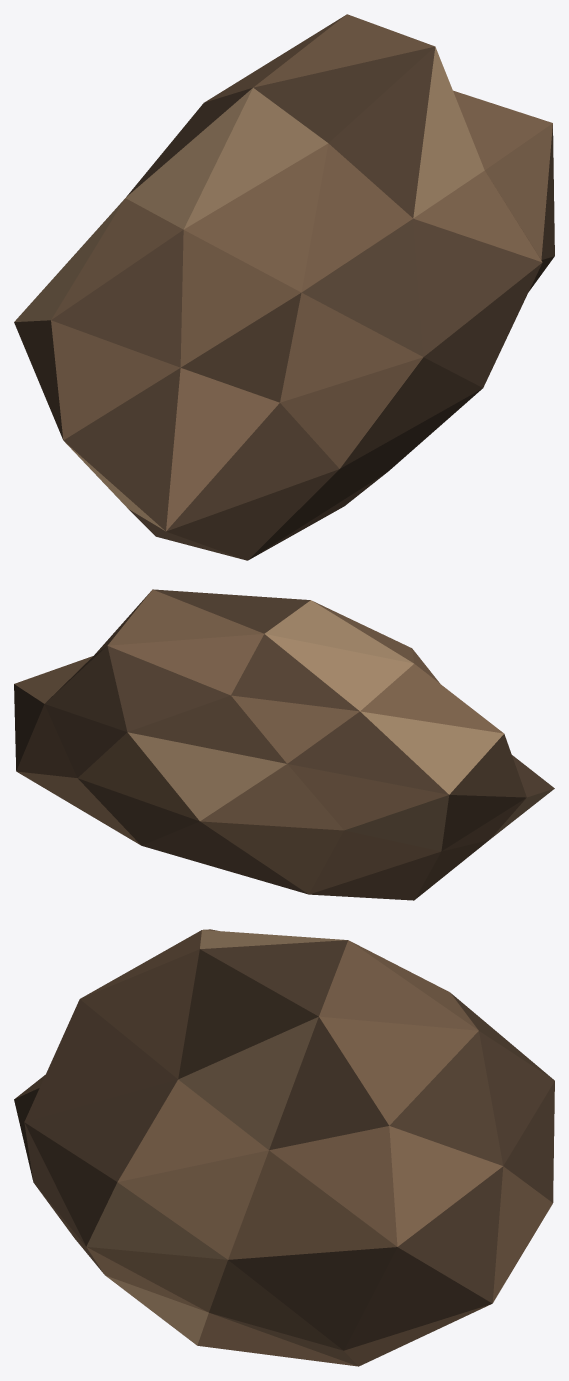
Rendered from asteroide-2.glb.
The picture shows the model from 3 angles, top to bottom: view 1: azimuth 30°, elevation 25°; view 2: azimuth 150°, elevation 25°; view 3: azimuth 270°, elevation 25°; orthographic projection. The views are drawn at different scales.
Parts seen in each view (by area): view 1: asteroide-2; view 2: asteroide-2; view 3: asteroide-2.
Boxes of the visible parts, x1,y1,x2,y2 form: asteroide-2: [14, 14, 554, 560]; asteroide-2: [14, 589, 554, 900]; asteroide-2: [14, 929, 554, 1366].
Size of the model in its own units: 22.08 by 13.44 by 16.23.
